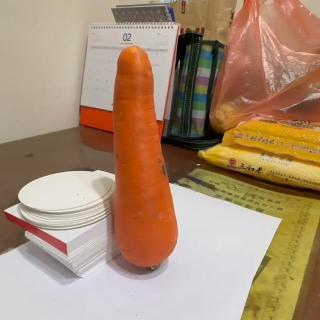carrot: (110, 48, 182, 274)
